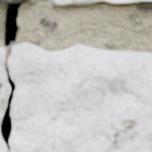brick: (52, 0, 151, 5), (0, 0, 28, 3)
broken_brick: (0, 43, 151, 151), (0, 48, 10, 124)
crack: (0, 2, 21, 149)
